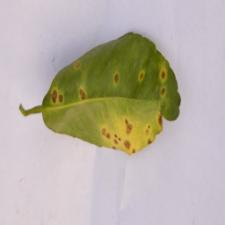Canker: (37, 41, 179, 174)
